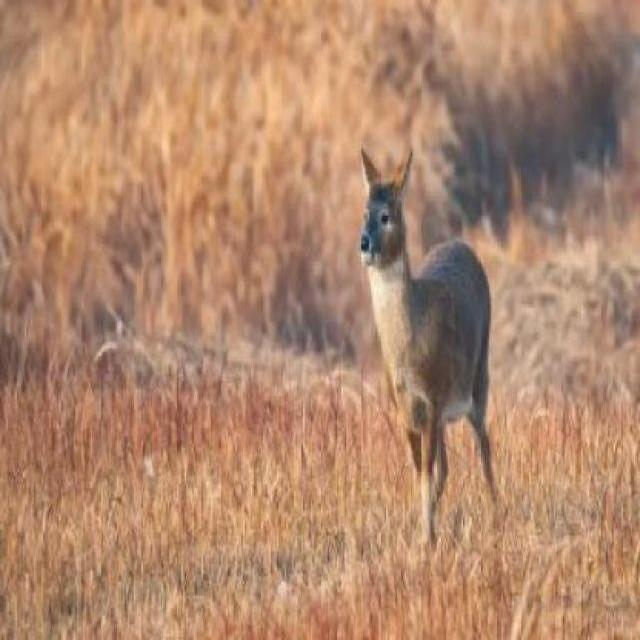deer: (347, 133, 501, 550)
